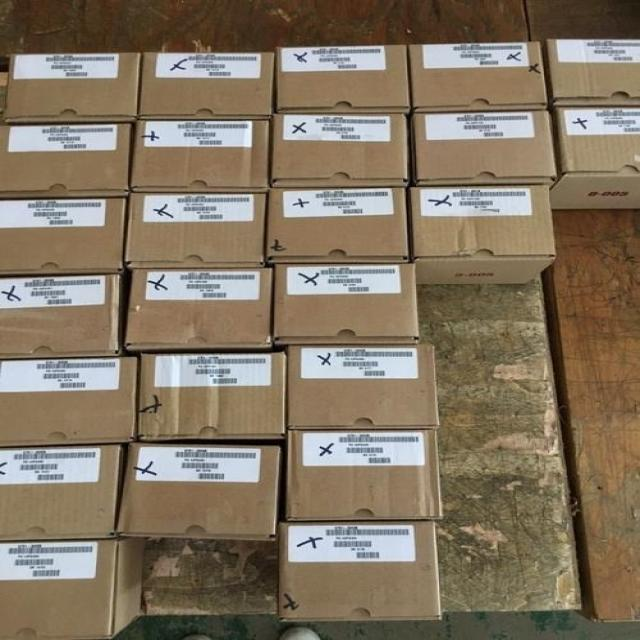box: (279, 517, 443, 623), (116, 439, 283, 540), (407, 184, 554, 284), (0, 538, 143, 639), (287, 426, 443, 518), (136, 351, 285, 443), (283, 344, 439, 431), (120, 265, 274, 352), (0, 357, 137, 447), (273, 261, 419, 344), (0, 442, 122, 541), (404, 110, 557, 185), (264, 185, 408, 264), (123, 192, 269, 269), (128, 119, 269, 194), (270, 113, 408, 188), (0, 121, 132, 197), (408, 42, 548, 113), (0, 196, 125, 275), (547, 107, 640, 209), (6, 54, 140, 123), (136, 53, 273, 120), (278, 45, 410, 113), (548, 39, 640, 107)
